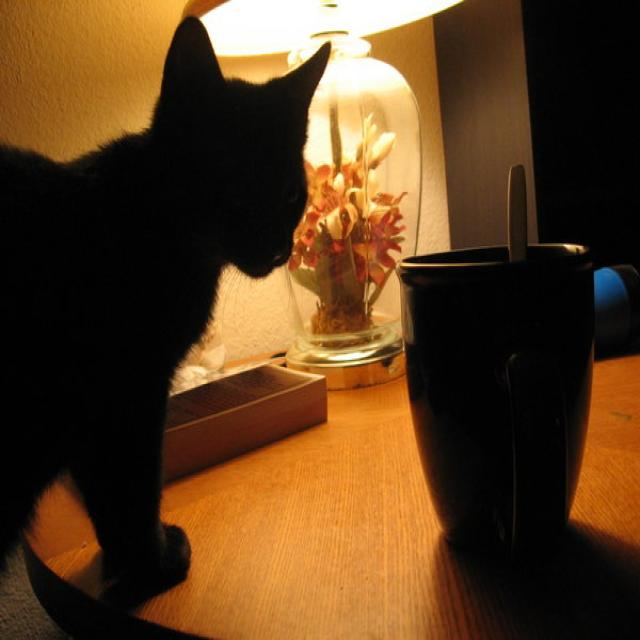Cat: (0, 35, 342, 626)
Cup: (403, 218, 613, 570)
Table: (21, 283, 640, 640)
